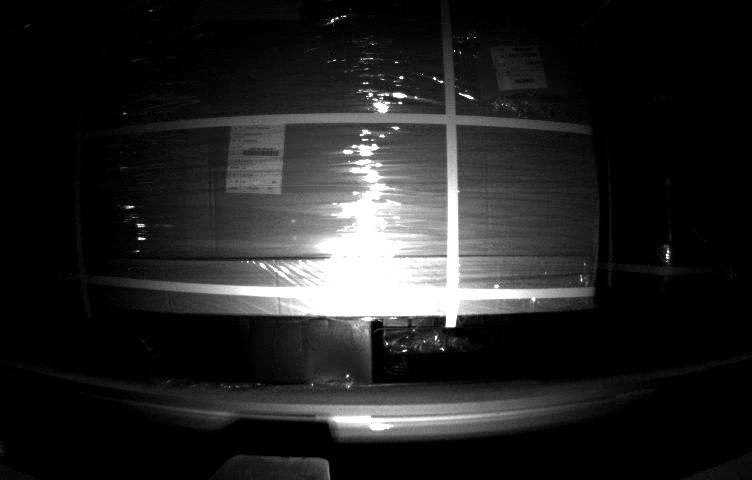True Barcode: (491, 42, 552, 89)
